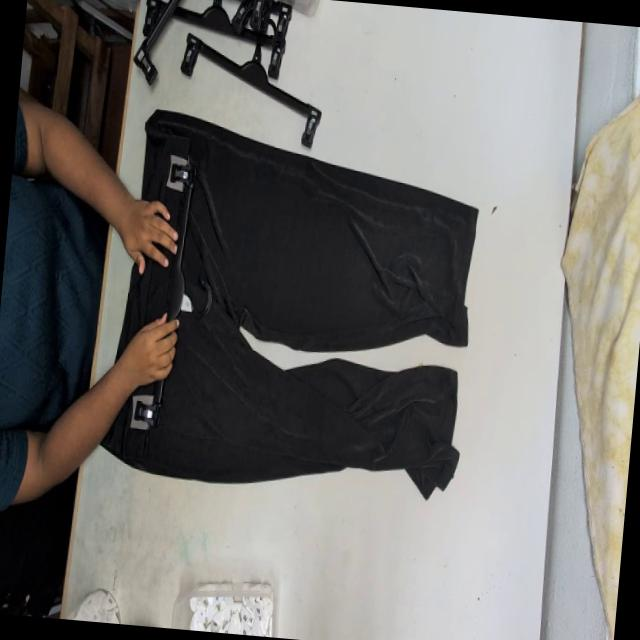new-garment: (101, 109, 477, 497)
